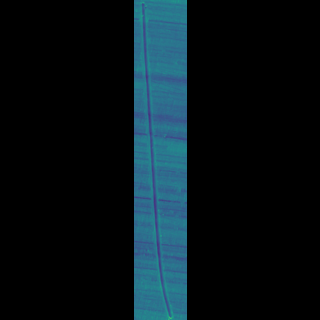Loch: (156, 4, 162, 320)
